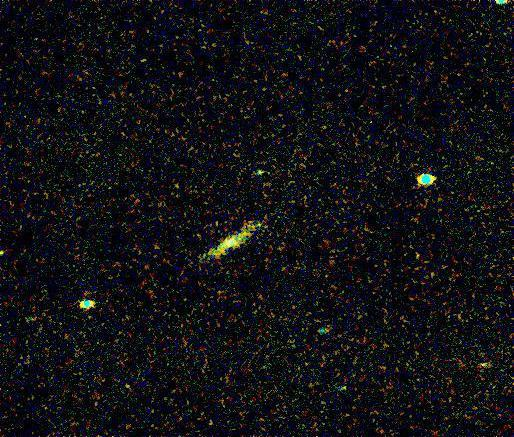star: (464, 350, 494, 380)
